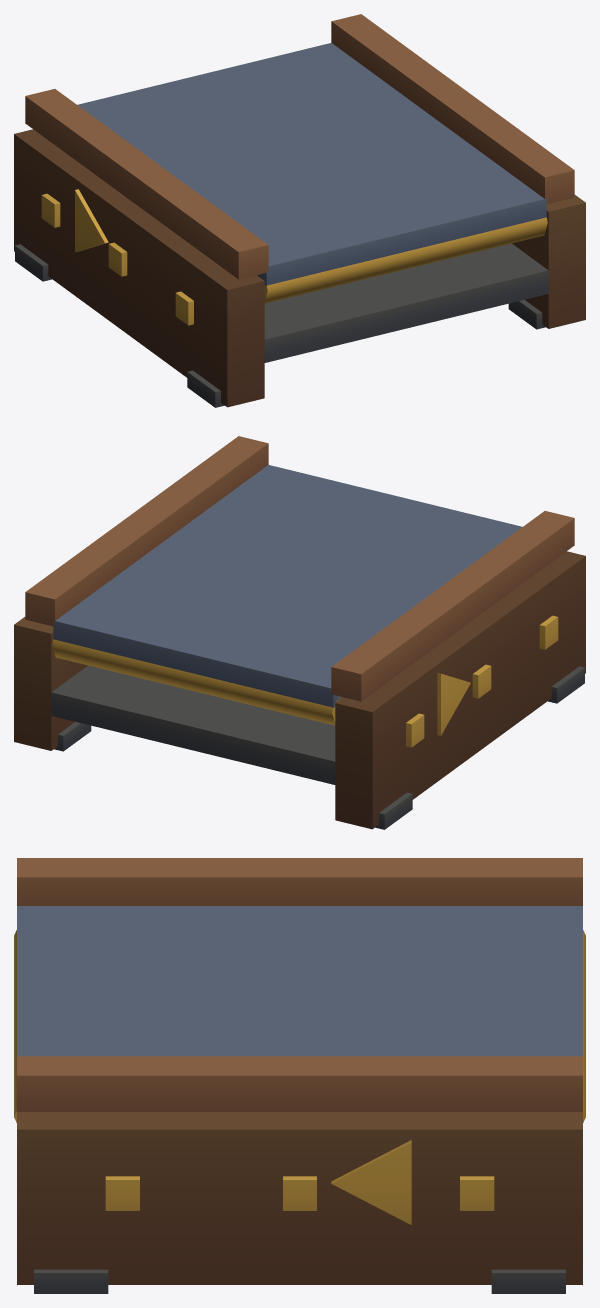
Rendered from logi_wooden_belt.glb.
The picture shows the model from 3 angles, top to bottom: view 1: azimuth 30°, elevation 25°; view 2: azimuth 150°, elevation 25°; view 3: azimuth 270°, elevation 25°; orthographic projection. The views are drawn at different scales.
Parts seen in each view (by area): view 1: logi_wooden_belt; view 2: logi_wooden_belt; view 3: logi_wooden_belt.
Boxes of the visible parts, x1,y1,x2,y2 form: logi_wooden_belt: (14,14,585,407); logi_wooden_belt: (14,436,585,829); logi_wooden_belt: (14,858,585,1293).
Bounding box in the file's own units: 1.98 × 0.8 × 2.
Materials: 1 (1 with a texture image).
